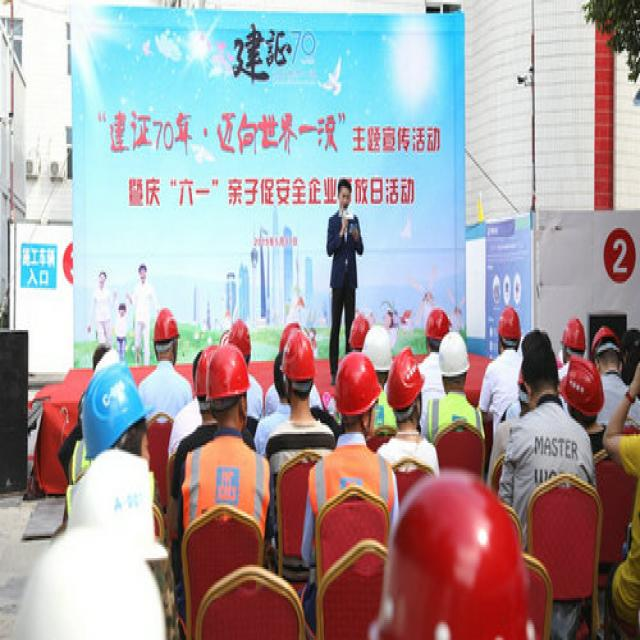Reflective-Jacket: (179, 436, 269, 631), (306, 452, 395, 640)
Safety-Helmet: (379, 474, 540, 640), (78, 354, 147, 454), (333, 352, 380, 416), (206, 345, 251, 401), (387, 346, 422, 408), (280, 328, 318, 381), (438, 330, 470, 379), (362, 321, 390, 368), (151, 306, 181, 343), (497, 303, 522, 341), (562, 314, 586, 350), (347, 312, 369, 350)
